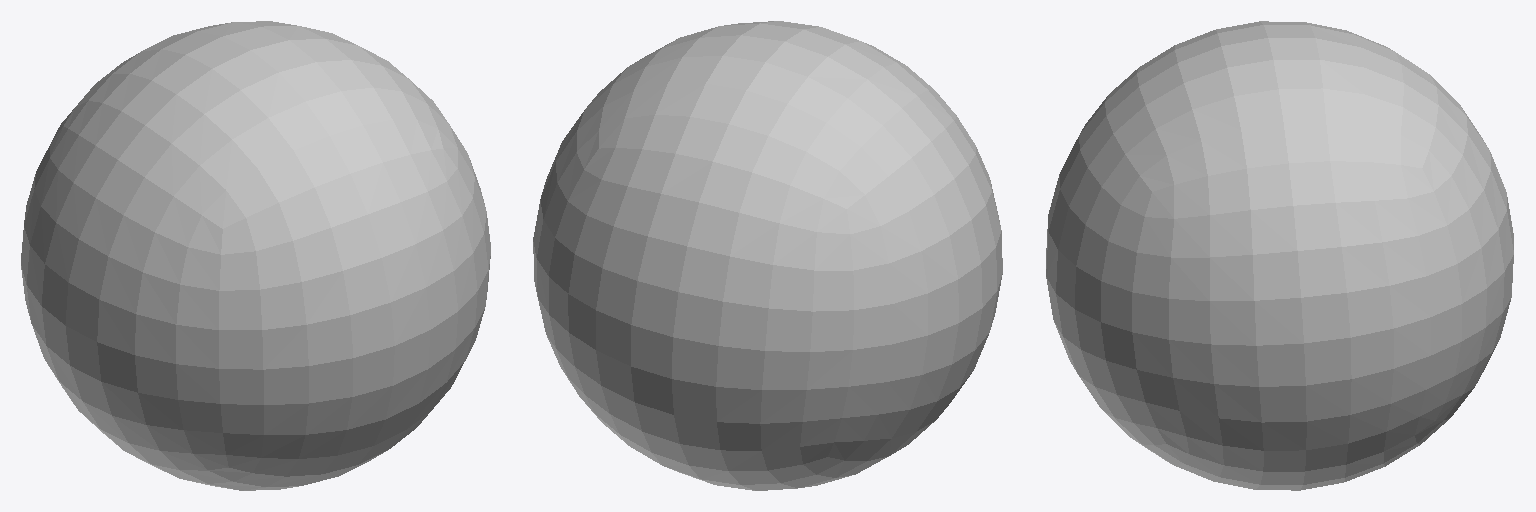
Rendered from earth_copy.obj.
3 views of the same model, side by side, from view 1: azimuth 30°, elevation 25°; view 2: azimuth 150°, elevation 25°; view 3: azimuth 270°, elevation 25° (orthographic).
Visible parts, largest first — view 1: Atmosphere; view 2: Atmosphere; view 3: Atmosphere.
Part boxes in pixels (bbox=[...]): Atmosphere: bbox=[21, 21, 490, 490]; Atmosphere: bbox=[533, 21, 1002, 490]; Atmosphere: bbox=[1046, 21, 1513, 490].
Bounding box in the file's own units: 6.32 × 6.34 × 6.32.